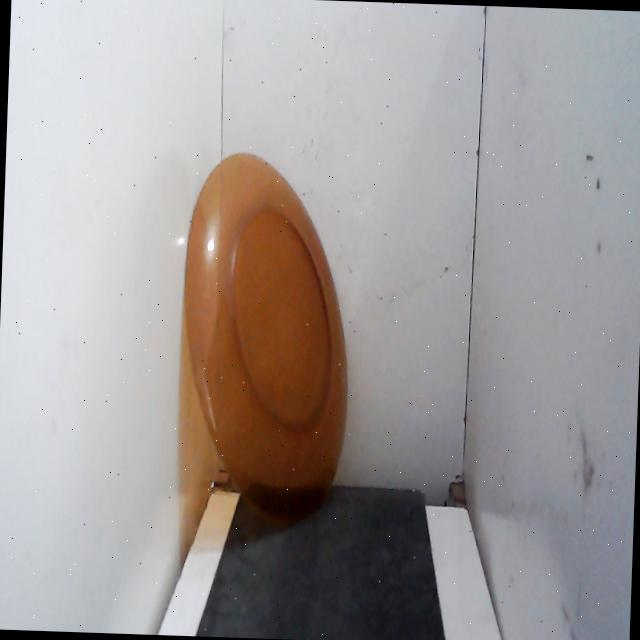vidro: (168, 138, 362, 542)
